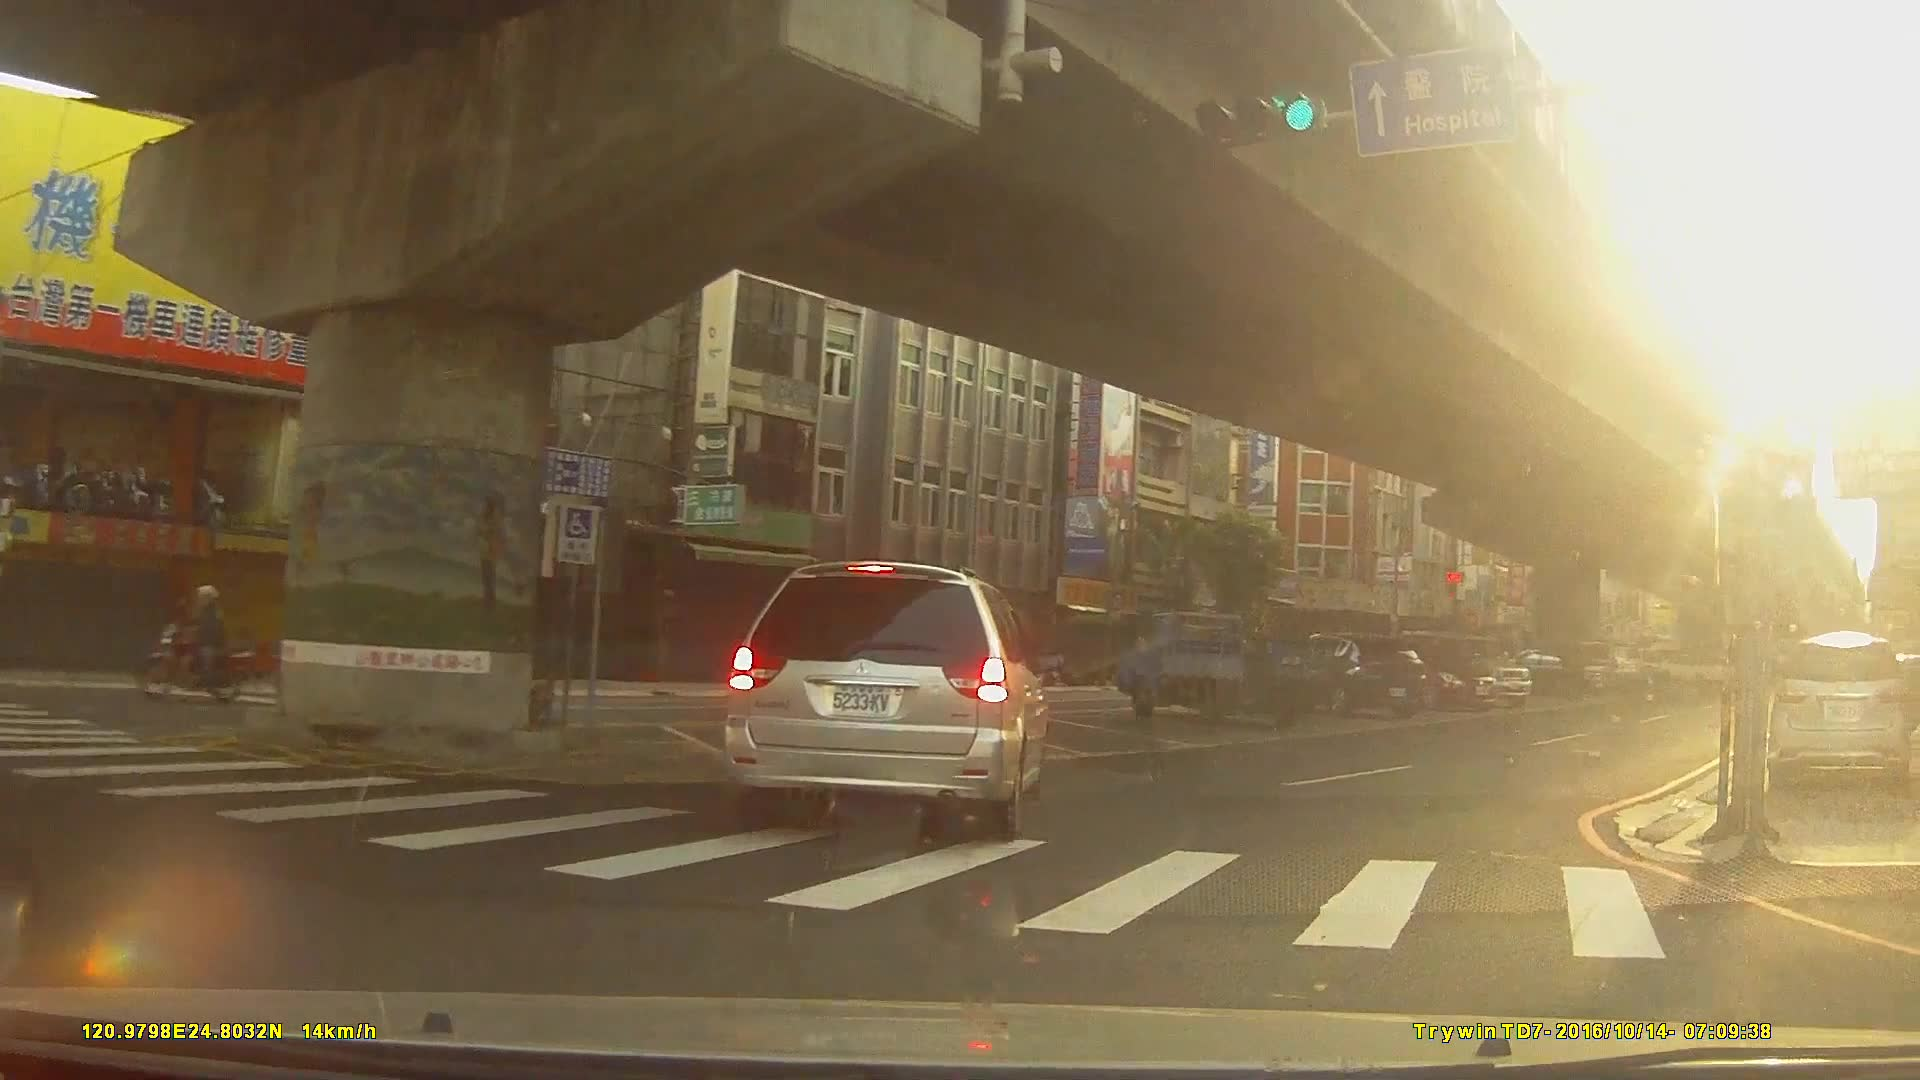rider: (134, 586, 259, 707)
vehicle: (722, 559, 1048, 845), (1113, 608, 1331, 725), (1769, 633, 1906, 796), (1283, 630, 1425, 717), (1361, 638, 1499, 711), (1491, 651, 1585, 700)
